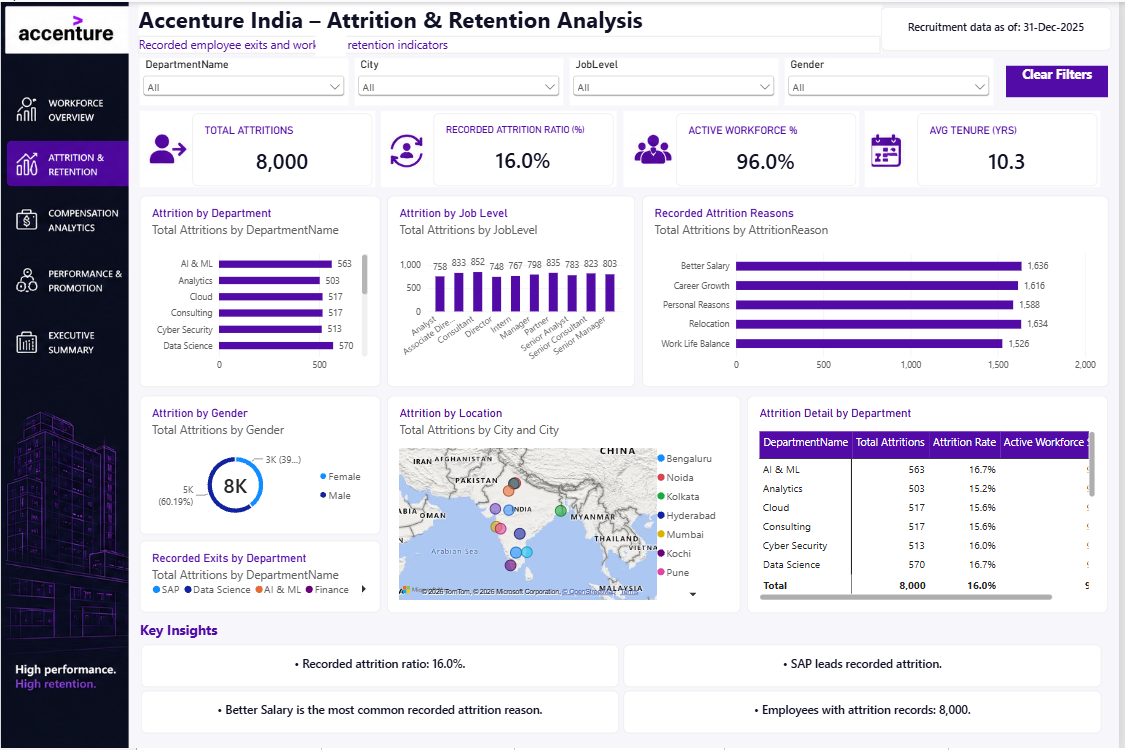

What the dashboard file says about the page in this screenshot:
{"tool":"powerbi","page":{"name":"Attrition & Retention","canvas":[1536,1024],"ordinal":1},"visuals":[{"type":"textbox","box":[175,0,1361,1024],"z":1},{"type":"image","box":[0,0,175,1024],"z":2},{"type":"textbox","box":[188,4,1020,43],"z":8},{"type":"textbox","box":[188,46,1020,25],"z":9},{"type":"card","fields":{"Values":["DimEmployee.Reporting Date Label"]},"box":[1208,7,316,60],"z":10},{"type":"slicer","title":"Department","fields":{"Values":["DimDepartment.DepartmentName"]},"box":[190,77,286,65],"z":11},{"type":"slicer","title":"Location","fields":{"Values":["DimLocation.City"]},"box":[485,77,286,65],"z":12},{"type":"slicer","title":"Job Level","fields":{"Values":["DimJobLevel.JobLevel"]},"box":[780,77,286,65],"z":13},{"type":"slicer","title":"Gender","fields":{"Values":["DimEmployee.Gender"]},"box":[1075,77,286,65],"z":14},{"type":"textbox","box":[1380,87,140,43],"z":15},{"type":"textbox","box":[190,150,323,105],"z":17},{"type":"image","box":[199,173,60,60],"z":18},{"type":"card","title":"TOTAL ATTRITIONS","fields":{"Values":["DimEmployee.Total Attritions"]},"box":[262,152,247,100],"z":19},{"type":"textbox","box":[522,150,323,105],"z":20},{"type":"image","box":[531,173,60,60],"z":21},{"type":"card","title":"RECORDED ATTRITION RATIO (%)","fields":{"Values":["DimEmployee.Attrition Rate"]},"box":[594,152,247,100],"z":22},{"type":"textbox","box":[854,150,323,105],"z":23},{"type":"image","box":[863,173,60,60],"z":24},{"type":"card","title":"ACTIVE WORKFORCE %","fields":{"Values":["DimEmployee.Active Workforce Share"]},"box":[926,152,247,100],"z":25},{"type":"textbox","box":[1186,150,323,105],"z":26},{"type":"image","box":[1195,173,60,60],"z":27},{"type":"card","title":"AVG TENURE (YRS)","fields":{"Values":["DimEmployee.Average Tenure"]},"box":[1258,152,247,100],"z":28},{"type":"clusteredBarChart","title":"Attrition by Department","fields":{"Category":["DimDepartment.DepartmentName"],"Y":["DimEmployee.Total Attritions"]},"box":[190,266,330,262],"z":29},{"type":"clusteredColumnChart","title":"Attrition by Job Level","fields":{"Category":["DimJobLevel.JobLevel"],"Y":["DimEmployee.Total Attritions"]},"box":[530,266,340,262],"z":30},{"type":"clusteredBarChart","title":"Recorded Attrition Reasons","fields":{"Category":["FactAttrition.AttritionReason"],"Y":["DimEmployee.Total Attritions"]},"box":[880,266,640,262],"z":31},{"type":"donutChart","title":"Attrition by Gender","fields":{"Category":["DimEmployee.Gender"],"Y":["DimEmployee.Total Attritions"]},"box":[190,540,330,190],"z":32},{"type":"treemap","title":"Recorded Exits by Department","fields":{"Group":["DimDepartment.DepartmentName"],"Values":["DimEmployee.Total Attritions"]},"box":[190,740,330,98],"z":33},{"type":"map","title":"Attrition by Location","fields":{"Category":["DimLocation.City"],"Size":["DimEmployee.Total Attritions"],"Series":["DimLocation.City"]},"box":[530,540,485,298],"z":34},{"type":"pivotTable","title":"Attrition Detail by Department","fields":{"Rows":["DimDepartment.DepartmentName"],"Values":["DimEmployee.Total Attritions","DimEmployee.Attrition Rate","DimEmployee.Active Workforce Share"]},"box":[1025,540,495,298],"z":35},{"type":"textbox","box":[190,850,1330,30],"z":36},{"type":"card","fields":{"Values":["DimEmployee.A Insight 1"]},"box":[193,882,656,58],"z":37},{"type":"card","fields":{"Values":["DimEmployee.A Insight 2"]},"box":[854,882,656,58],"z":38},{"type":"card","fields":{"Values":["DimEmployee.A Insight 3"]},"box":[193,945,656,58],"z":39},{"type":"card","fields":{"Values":["DimEmployee.A Insight 4"]},"box":[854,945,656,58],"z":40},{"type":"actionButton","box":[4,115,170,64],"z":902},{"type":"actionButton","box":[4,190,170,64],"z":903},{"type":"actionButton","box":[4,265,170,64],"z":904},{"type":"actionButton","box":[4,340,170,64],"z":905},{"type":"actionButton","box":[4,415,170,64],"z":906},{"type":"actionButton","box":[1380,87,140,43],"z":915}]}

Visuals, with their boxes on the page's 1536x1024 design canvas (x1, y1, x2, y2). These are canvas units, not pixel positions in the 1125x750 screenshot, which may show the page scaled, cropped or inside an application window:
textbox: (175, 0, 1536, 1024)
image: (0, 0, 175, 1024)
textbox: (188, 4, 1208, 47)
textbox: (188, 46, 1208, 71)
card - DimEmployee.Reporting Date Label: (1208, 7, 1524, 67)
"Department" slicer: (190, 77, 476, 142)
"Location" slicer: (485, 77, 771, 142)
"Job Level" slicer: (780, 77, 1066, 142)
"Gender" slicer: (1075, 77, 1361, 142)
textbox: (1380, 87, 1520, 130)
textbox: (190, 150, 513, 255)
image: (199, 173, 259, 233)
"TOTAL ATTRITIONS" card: (262, 152, 509, 252)
textbox: (522, 150, 845, 255)
image: (531, 173, 591, 233)
"RECORDED ATTRITION RATIO (%)" card: (594, 152, 841, 252)
textbox: (854, 150, 1177, 255)
image: (863, 173, 923, 233)
"ACTIVE WORKFORCE %" card: (926, 152, 1173, 252)
textbox: (1186, 150, 1509, 255)
image: (1195, 173, 1255, 233)
"AVG TENURE (YRS)" card: (1258, 152, 1505, 252)
"Attrition by Department" clusteredBarChart: (190, 266, 520, 528)
"Attrition by Job Level" clusteredColumnChart: (530, 266, 870, 528)
"Recorded Attrition Reasons" clusteredBarChart: (880, 266, 1520, 528)
"Attrition by Gender" donutChart: (190, 540, 520, 730)
"Recorded Exits by Department" treemap: (190, 740, 520, 838)
"Attrition by Location" map: (530, 540, 1015, 838)
"Attrition Detail by Department" pivotTable: (1025, 540, 1520, 838)
textbox: (190, 850, 1520, 880)
card - DimEmployee.A Insight 1: (193, 882, 849, 940)
card - DimEmployee.A Insight 2: (854, 882, 1510, 940)
card - DimEmployee.A Insight 3: (193, 945, 849, 1003)
card - DimEmployee.A Insight 4: (854, 945, 1510, 1003)
actionButton: (4, 115, 174, 179)
actionButton: (4, 190, 174, 254)
actionButton: (4, 265, 174, 329)
actionButton: (4, 340, 174, 404)
actionButton: (4, 415, 174, 479)
actionButton: (1380, 87, 1520, 130)
